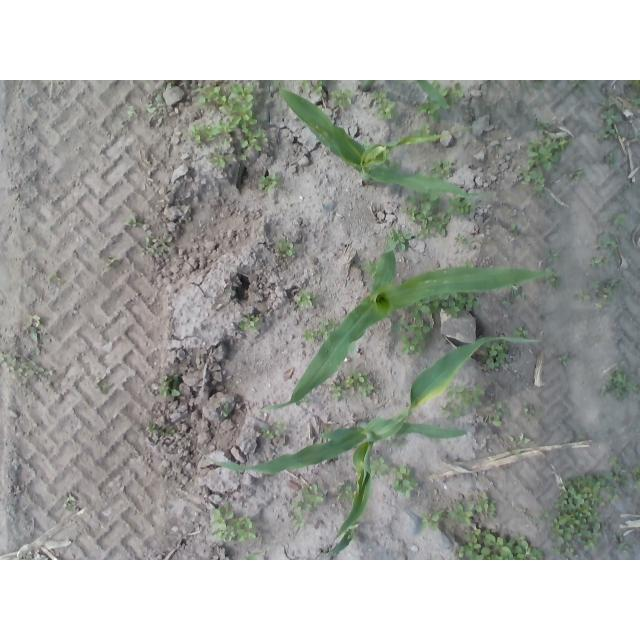Maize: (197, 336, 540, 544), (262, 229, 555, 412), (274, 82, 490, 198), (322, 528, 359, 560), (415, 80, 450, 110), (359, 81, 378, 92)
Weeds: (550, 458, 627, 560), (186, 81, 270, 171), (515, 137, 569, 195), (456, 528, 544, 560), (405, 193, 452, 239), (390, 307, 434, 356), (286, 483, 323, 537), (212, 504, 260, 544), (448, 492, 497, 527), (443, 386, 486, 422), (422, 294, 478, 318), (0, 353, 48, 380), (599, 370, 640, 399), (598, 99, 622, 141), (390, 463, 418, 497), (344, 367, 374, 397), (483, 342, 509, 371), (597, 276, 621, 306), (259, 168, 284, 196), (141, 235, 174, 256), (373, 89, 396, 119), (388, 227, 414, 252), (303, 319, 330, 342), (154, 373, 181, 396), (419, 505, 444, 529), (485, 403, 507, 430), (593, 227, 617, 251), (447, 195, 478, 213), (260, 421, 288, 440), (93, 373, 115, 396), (26, 315, 42, 345), (146, 423, 174, 440), (332, 87, 353, 109), (429, 158, 451, 178), (418, 103, 438, 124), (543, 269, 562, 291), (336, 483, 357, 502), (277, 238, 296, 259), (370, 457, 387, 480), (300, 80, 324, 96), (360, 258, 377, 278), (329, 382, 345, 402), (239, 315, 260, 329), (298, 292, 315, 309), (64, 493, 78, 511), (510, 434, 531, 446), (630, 461, 640, 486), (575, 290, 593, 303), (536, 120, 551, 135), (511, 284, 525, 300), (522, 403, 534, 421), (617, 537, 631, 552), (106, 256, 122, 269), (218, 402, 231, 418), (125, 215, 142, 227), (625, 80, 639, 94), (589, 257, 604, 270), (606, 151, 618, 167), (536, 511, 549, 525), (569, 167, 584, 179), (514, 328, 530, 339), (613, 214, 626, 227), (450, 93, 463, 106), (156, 91, 167, 106), (547, 249, 558, 264), (455, 233, 470, 244), (245, 552, 263, 561), (558, 354, 571, 366), (127, 105, 137, 119), (145, 103, 157, 114), (509, 223, 520, 235), (569, 80, 585, 88), (224, 287, 236, 297), (48, 271, 60, 281), (518, 507, 530, 517), (534, 82, 547, 91), (592, 280, 601, 293), (455, 84, 464, 97), (461, 261, 476, 267), (166, 81, 178, 88), (634, 130, 640, 143), (296, 399, 308, 405), (631, 98, 640, 106), (440, 88, 448, 97), (502, 301, 511, 308), (578, 433, 586, 440), (433, 81, 440, 87)
